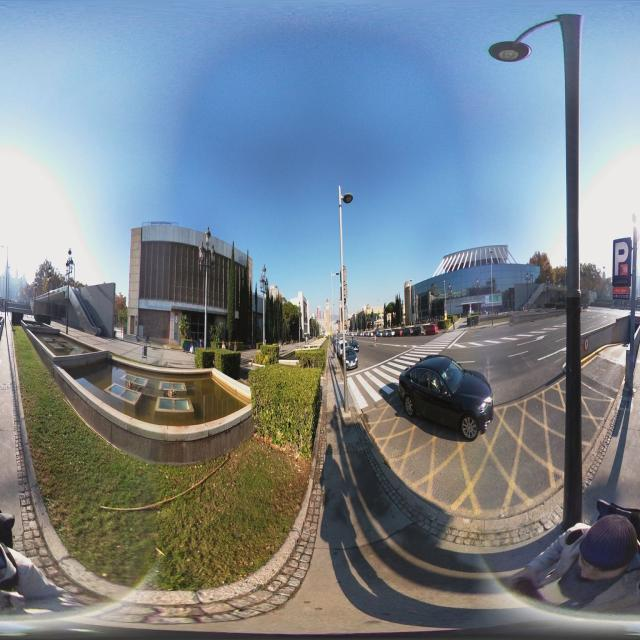forb_stopping: (444, 306, 446, 311)
